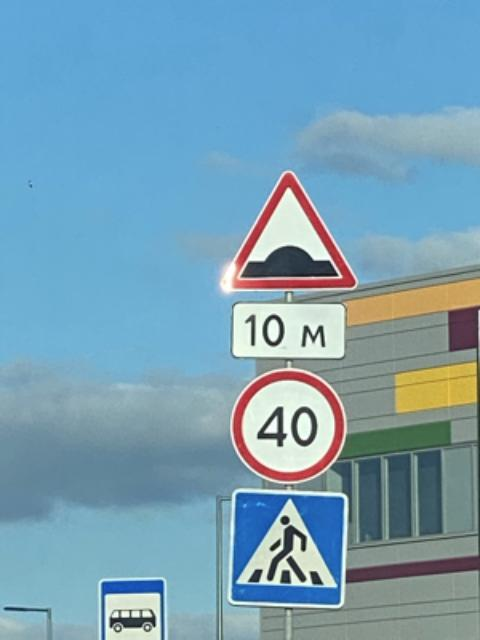crosswalk-sign: (227, 488, 350, 611)
